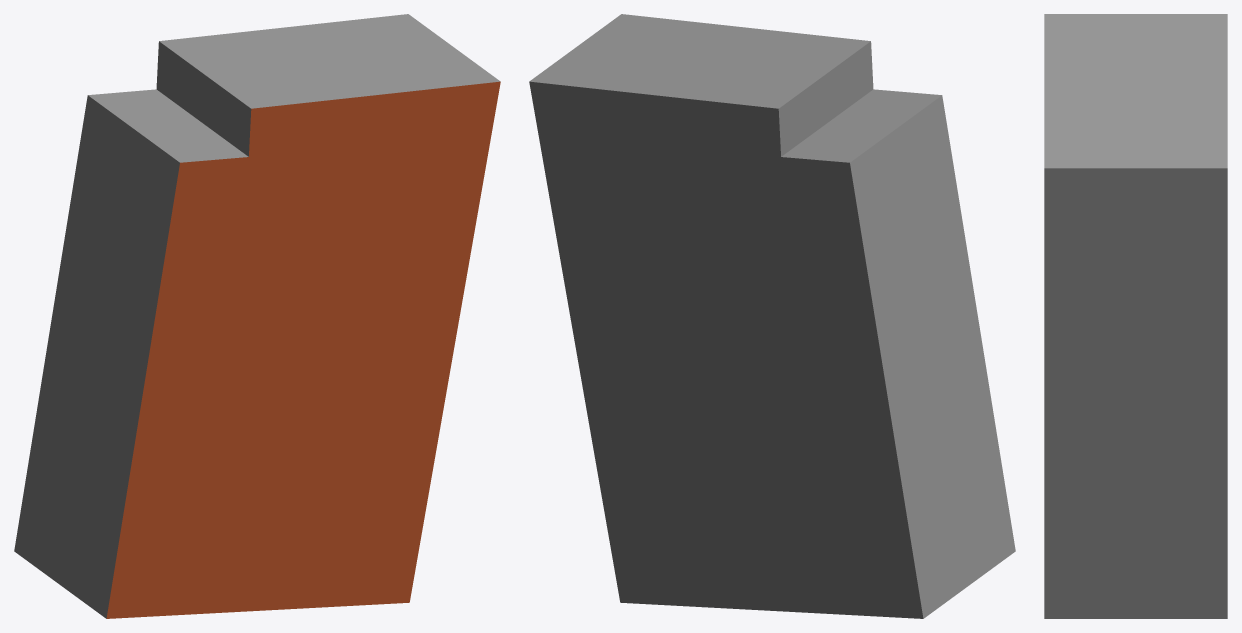
File: construction_3542_assumed_A_Casa_h6m.obj
3 views of the same model, side by side, from view 1: azimuth 30°, elevation 25°; view 2: azimuth 150°, elevation 25°; view 3: azimuth 270°, elevation 25° (orthographic).
Parts seen in each view (by area): view 1: construction_3542_assumed_A_Casa; view 2: construction_3542_assumed_A_Casa; view 3: construction_3542_assumed_A_Casa.
Boxes of the visible parts, left/top/right/bottom form: construction_3542_assumed_A_Casa: left=14, top=14, right=500, bottom=618; construction_3542_assumed_A_Casa: left=529, top=14, right=1015, bottom=618; construction_3542_assumed_A_Casa: left=1044, top=14, right=1227, bottom=618.
Size of the model in its own units: 14.79 by 19.09 by 6.
